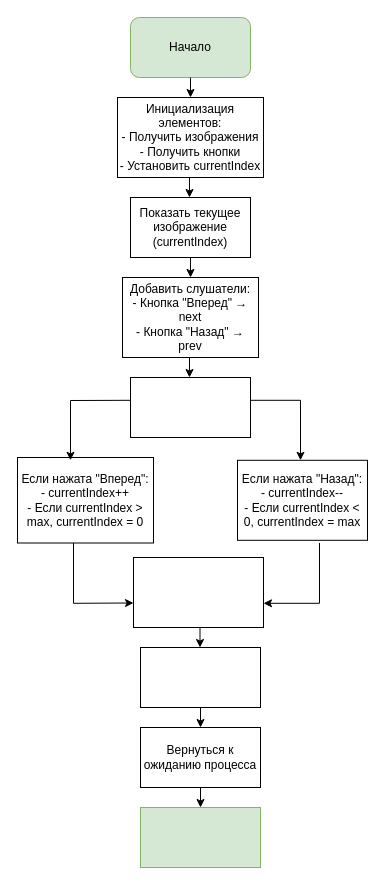
Image size: 385x885. Some labels were removed from this diagram. Here are the shapes that lost their labels. From the top down, the centre of each, then its label:
point (190, 407): Ожидание события (click)
point (198, 592): Показать изображение с currentIndex
point (200, 677): Вывести currentIndex в консоль
point (200, 837): Конец
